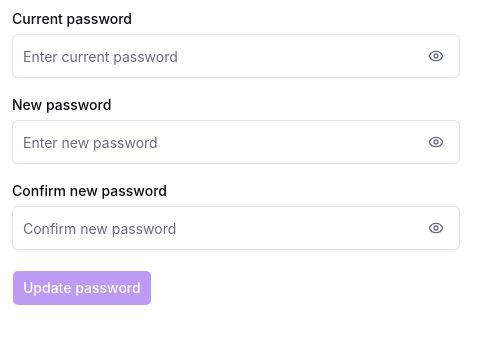
ChangePasswordForm › maps INVALID_CREDENTIALS to an inline error on the current-password field
This screenshot has width=479, height=346.
Type "OldPass123!" into the password field labelled "Current password".
click(236, 56); type("OldPass123!")  # box left=12, top=34, right=460, bottom=78
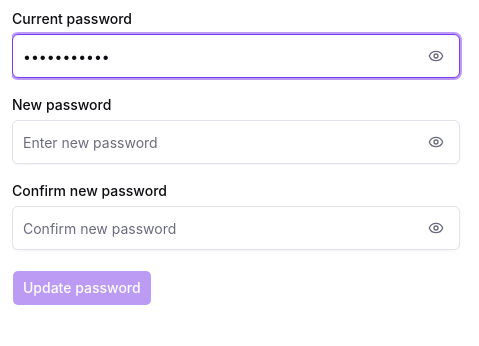
Type "NewPass456!" into the password field labelled "New password".
click(236, 142); type("NewPass456!")  # box left=12, top=120, right=460, bottom=164
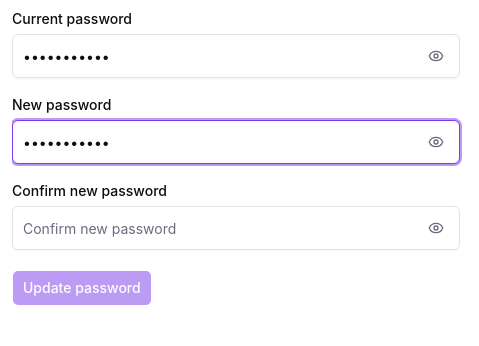
Type "NewPass456!" into the password field labelled "Confirm new password".
click(236, 228); type("NewPass456!")  # box left=12, top=206, right=460, bottom=250
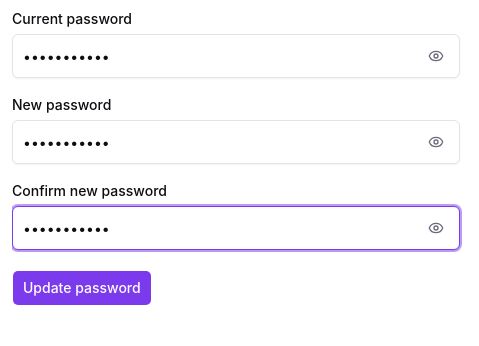
Click the button "Update password".
click(82, 288)  # box left=12, top=270, right=152, bottom=306
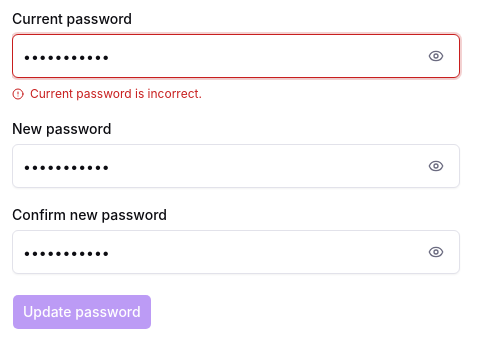
Expected: the text "Current password is incorrect." is shown, left=30, top=86, right=202, bottom=102
